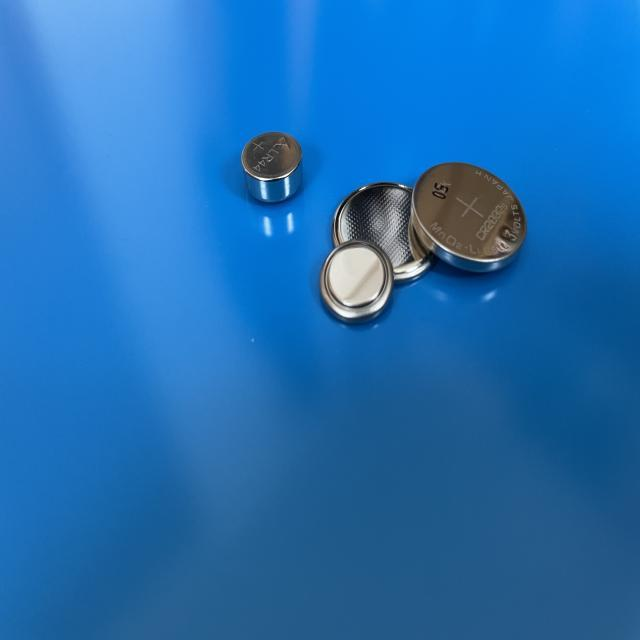COIN: (406, 153, 530, 278), (329, 178, 447, 282), (316, 236, 397, 328), (240, 125, 304, 202)
